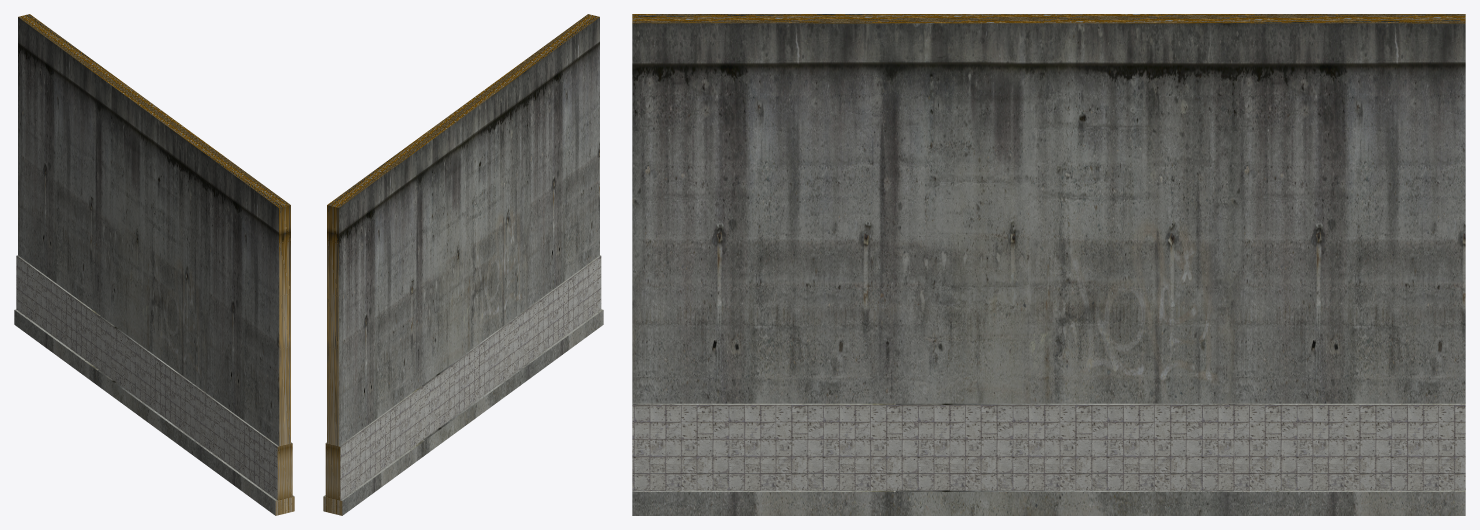
Rendered from hallway(singlewall).FBX.
3 views of the same model, side by side, from view 1: azimuth 30°, elevation 25°; view 2: azimuth 150°, elevation 25°; view 3: azimuth 270°, elevation 25° (orthographic). The views are drawn at different scales.
Visible parts, largest first — view 1: wall001; view 2: wall001; view 3: wall001.
Boxes of the visible parts, x1,y1,x2,y2 form: wall001: [14, 14, 294, 515]; wall001: [323, 14, 603, 515]; wall001: [632, 14, 1465, 515].
Size of the model in its own units: 5.81 by 90.24 by 139.
Materials: 3 (3 with a texture image).
